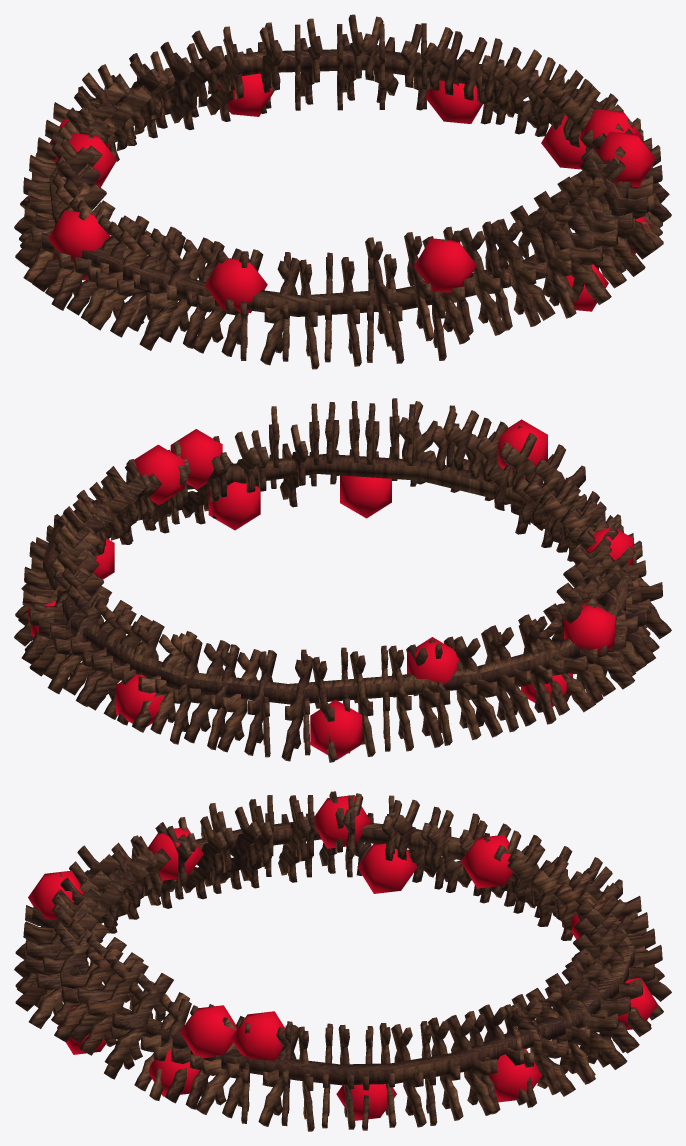
The model's file is StickReef.fbx.
3 views of the same model, one above another, from view 1: azimuth 30°, elevation 25°; view 2: azimuth 150°, elevation 25°; view 3: azimuth 270°, elevation 25° (orthographic). The views are drawn at different scales.
Parts seen in each view (by area): view 1: Cube; view 2: Cube; view 3: Cube.
Part boxes in pixels (x1=…): Cube: x1=14, y1=14, x2=671, y2=369; Cube: x1=14, y1=398, x2=671, y2=762; Cube: x1=14, y1=791, x2=671, y2=1131.
Size of the model in its own units: 347 by 66.36 by 351.
